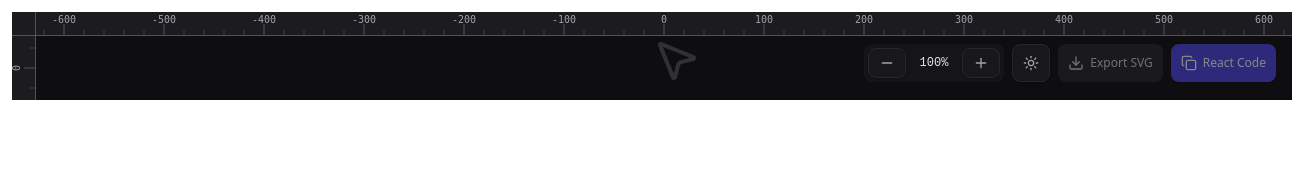
Test: Canvas › zoom controls › resets zoom to 100% after zooming in
Click the button titled "Zoom In" at (981, 63), box x1=962 y1=48 x2=1000 y2=78
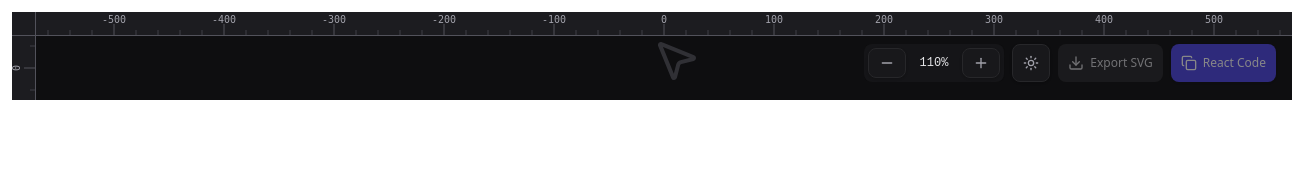
Click the button titled "Reset Zoom" at (934, 63), box x1=910 y1=49 x2=958 y2=77
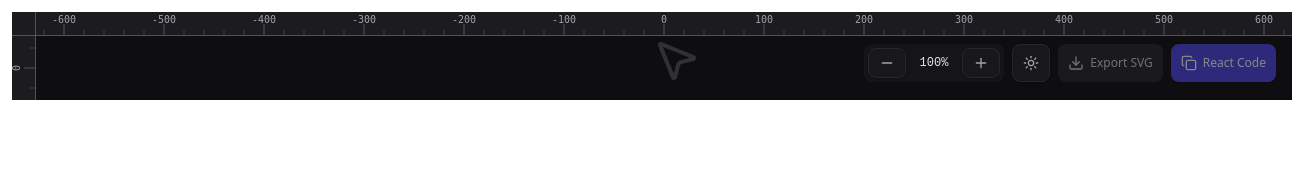
Expected: the button titled "Reset Zoom" reads "100%", x1=910 y1=49 x2=958 y2=77
